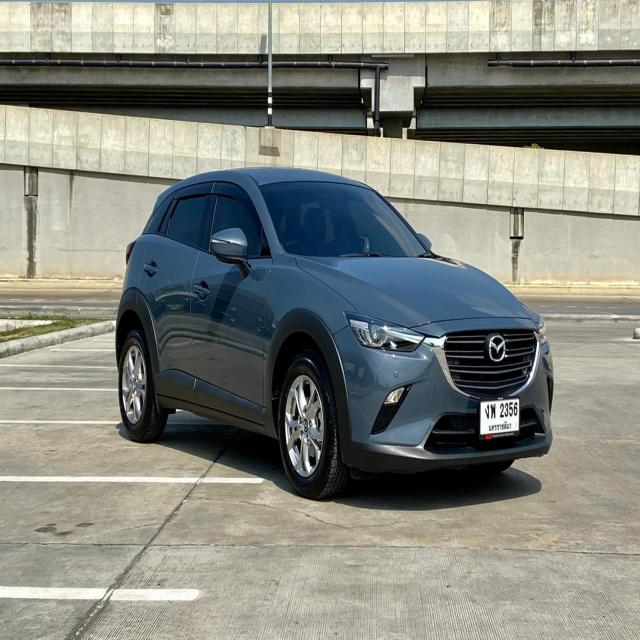license_plate: (478, 396, 522, 438)
